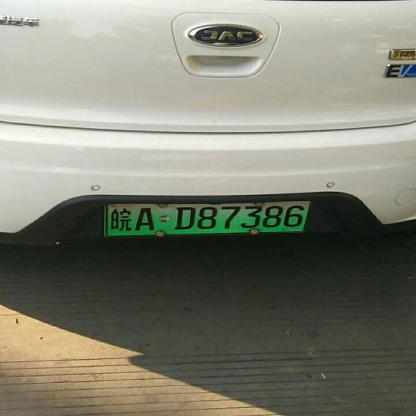lp: (105, 200, 312, 235)
